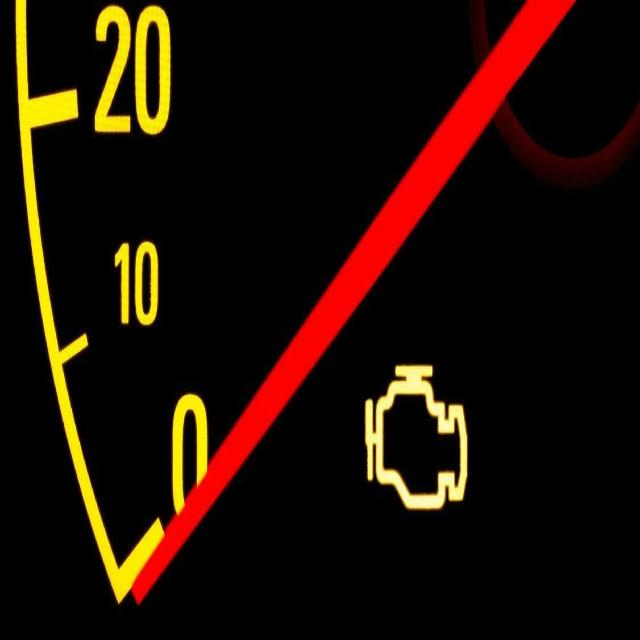kontrolka: (351, 335, 494, 542)
